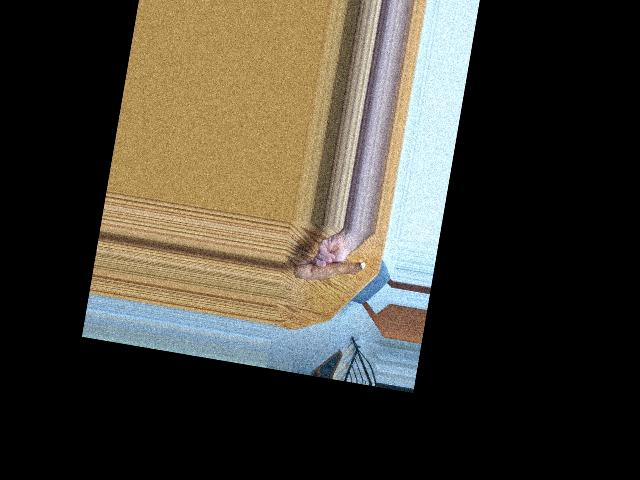sweet_potato: (291, 248, 366, 290)
